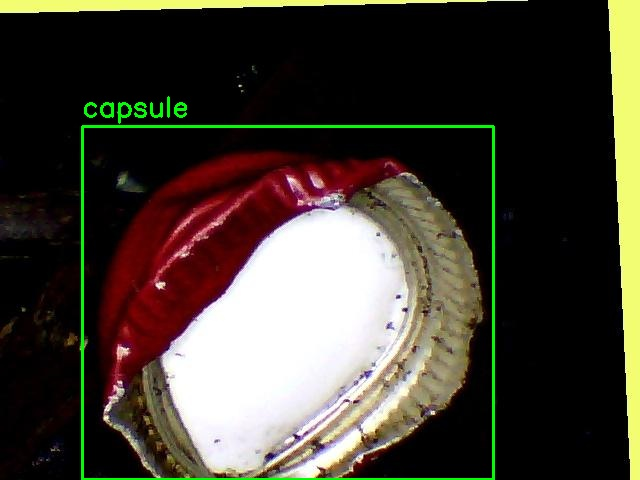capsule: (82, 126, 493, 479)
